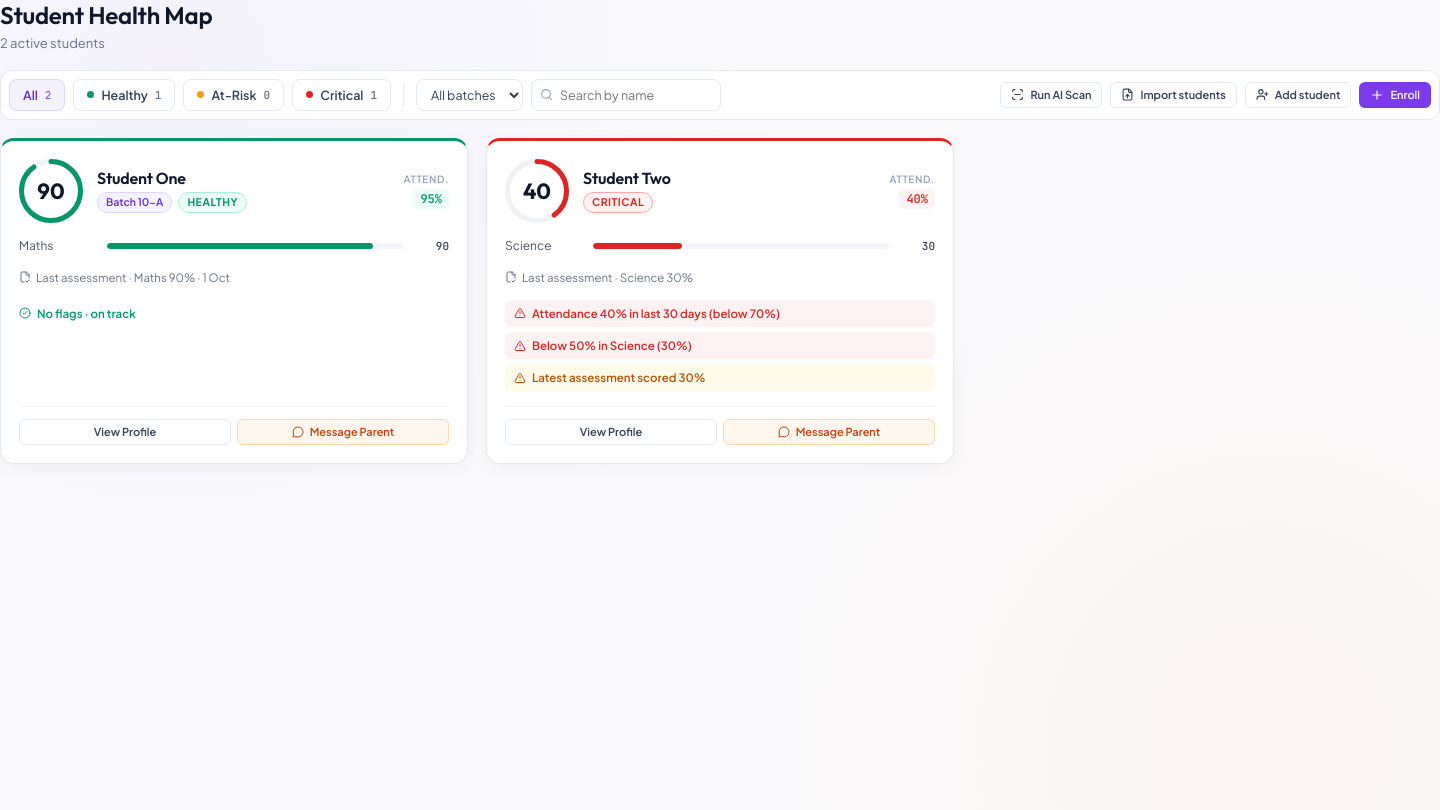
StudentHealthView › opens the profile with real detail and attendance
Expected: the heading "Student One" is shown, x1=97 y1=168 x2=186 y2=188
Click the button with aria-label "View profile of Student One": (125, 432) x1=19 y1=418 x2=231 y2=444
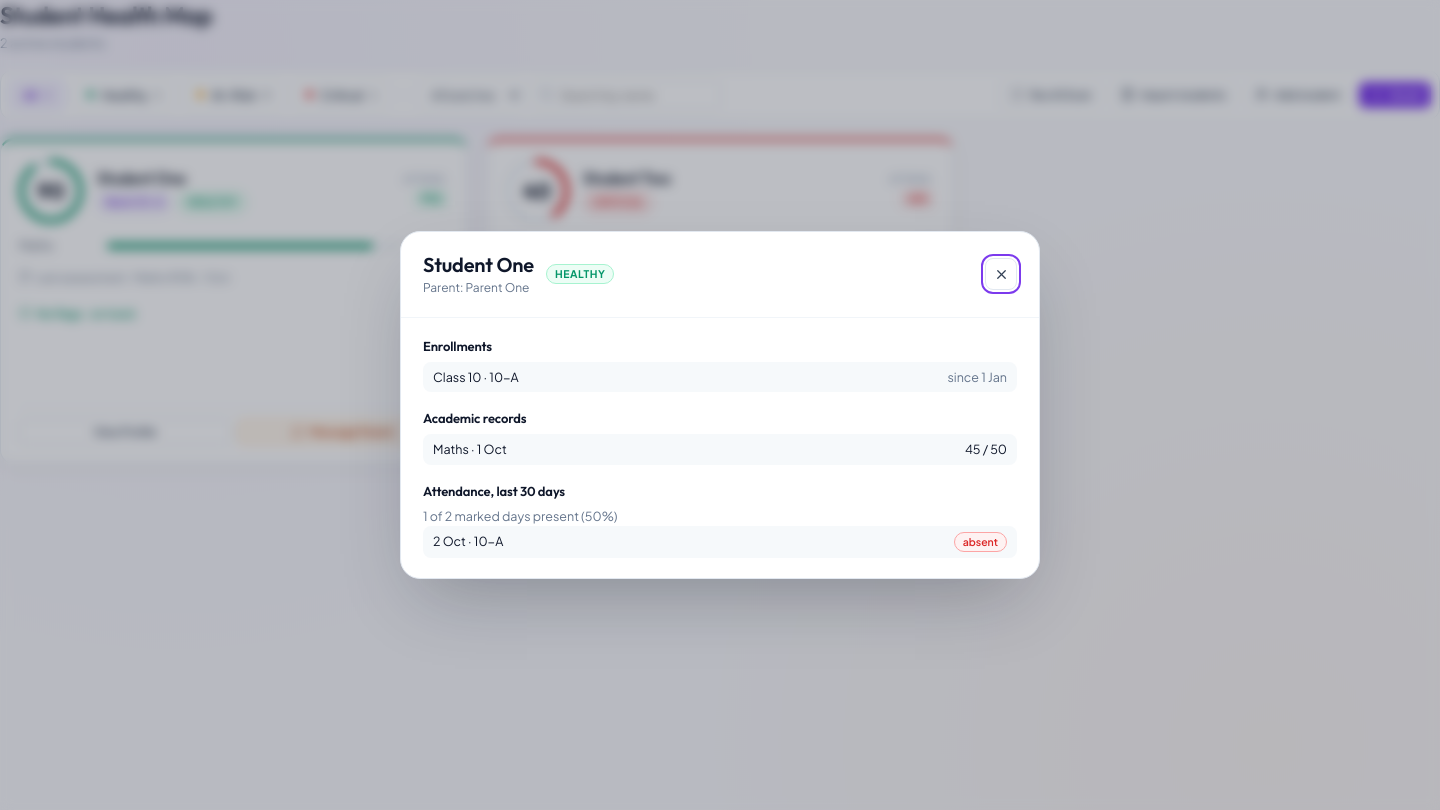
Expected: the text "45 / 50" is shown, x1=965 y1=440 x2=1007 y2=459
Expected: the text "1 of 2 marked days present (50%)" is shown, x1=423 y1=508 x2=618 y2=524
